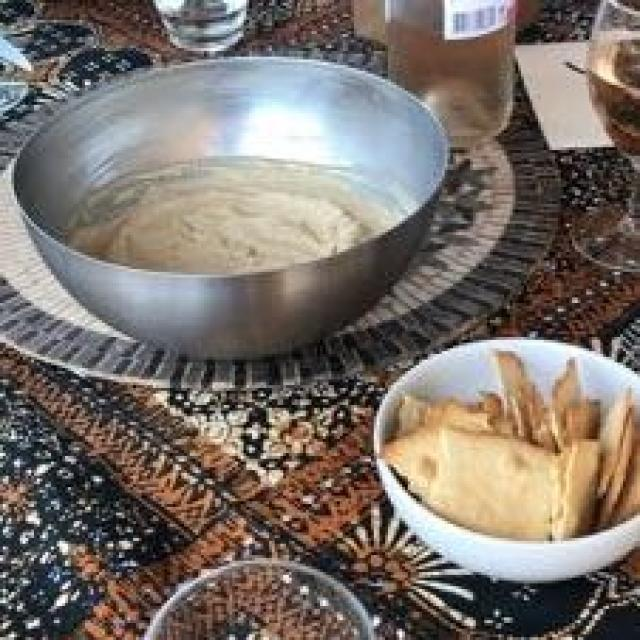crackers: (402, 349, 633, 533)
hummus: (73, 158, 402, 288)
